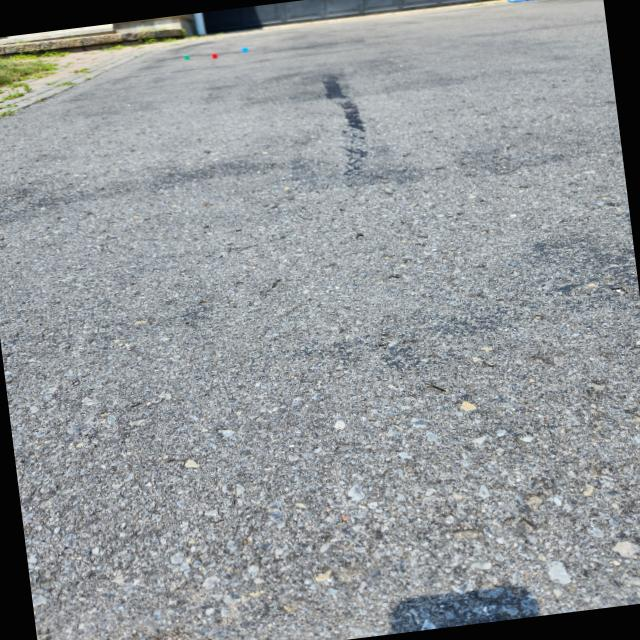bluecube: (240, 46, 248, 52)
green cube: (183, 54, 189, 59)
red cube: (211, 53, 217, 58)
